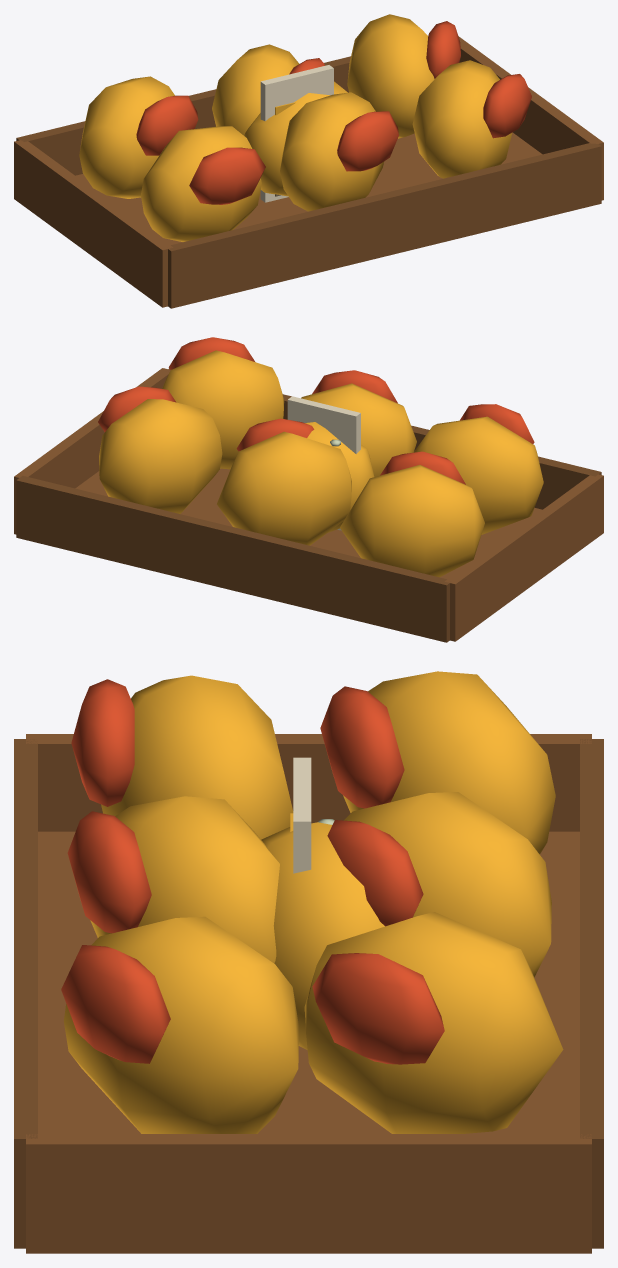
File: Fruit_Mango.fbx
3 renders of one model, top to bottom at view 1: azimuth 30°, elevation 25°; view 2: azimuth 150°, elevation 25°; view 3: azimuth 270°, elevation 25°, orthographic. The views are drawn at different scales.
Parts seen in each view (by area): view 1: Fruit_Mango__Stack, Fruit_Mango, Fruit_Mango__Seed; view 2: Fruit_Mango__Stack, Fruit_Mango__Seed, Fruit_Mango; view 3: Fruit_Mango__Stack, Fruit_Mango, Fruit_Mango__Seed.
Boxes of the visible parts, bbox=[...] form: Fruit_Mango__Stack: bbox=[14, 14, 603, 308]; Fruit_Mango: bbox=[244, 81, 347, 196]; Fruit_Mango__Seed: bbox=[260, 65, 333, 202]; Fruit_Mango__Stack: bbox=[14, 337, 603, 642]; Fruit_Mango__Seed: bbox=[287, 396, 360, 530]; Fruit_Mango: bbox=[305, 422, 374, 532]; Fruit_Mango__Stack: bbox=[14, 671, 603, 1253]; Fruit_Mango: bbox=[261, 822, 384, 1049]; Fruit_Mango__Seed: bbox=[290, 757, 311, 873].
Size of the model in its own units: 0.3217 by 0.09 by 0.1955.
